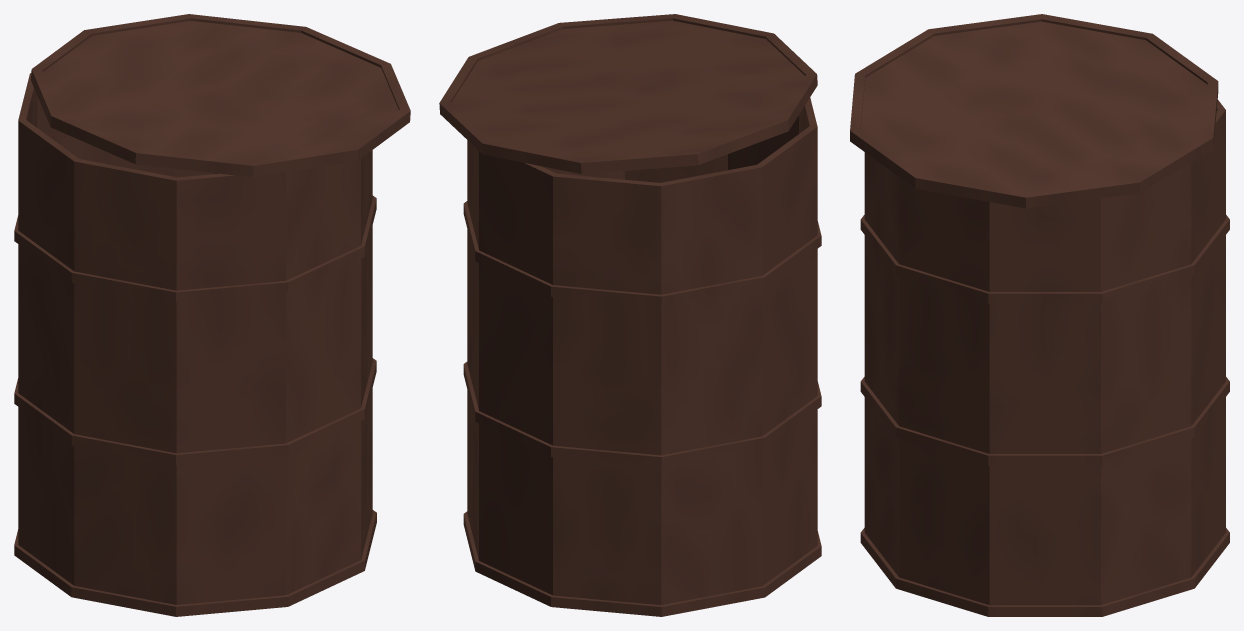
The model's file is Bochka.fbx.
The picture shows the model from 3 angles, left to right: view 1: azimuth 30°, elevation 25°; view 2: azimuth 150°, elevation 25°; view 3: azimuth 270°, elevation 25°; orthographic projection.
Visible parts, largest first — view 1: Cylinder.031; view 2: Cylinder.031; view 3: Cylinder.031.
Boxes of the visible parts, bbox=[...] form: Cylinder.031: bbox=[14, 14, 410, 616]; Cylinder.031: bbox=[439, 14, 821, 616]; Cylinder.031: bbox=[850, 14, 1229, 616].
Bounding box in the file's own units: 81.88 × 106 × 79.91.
